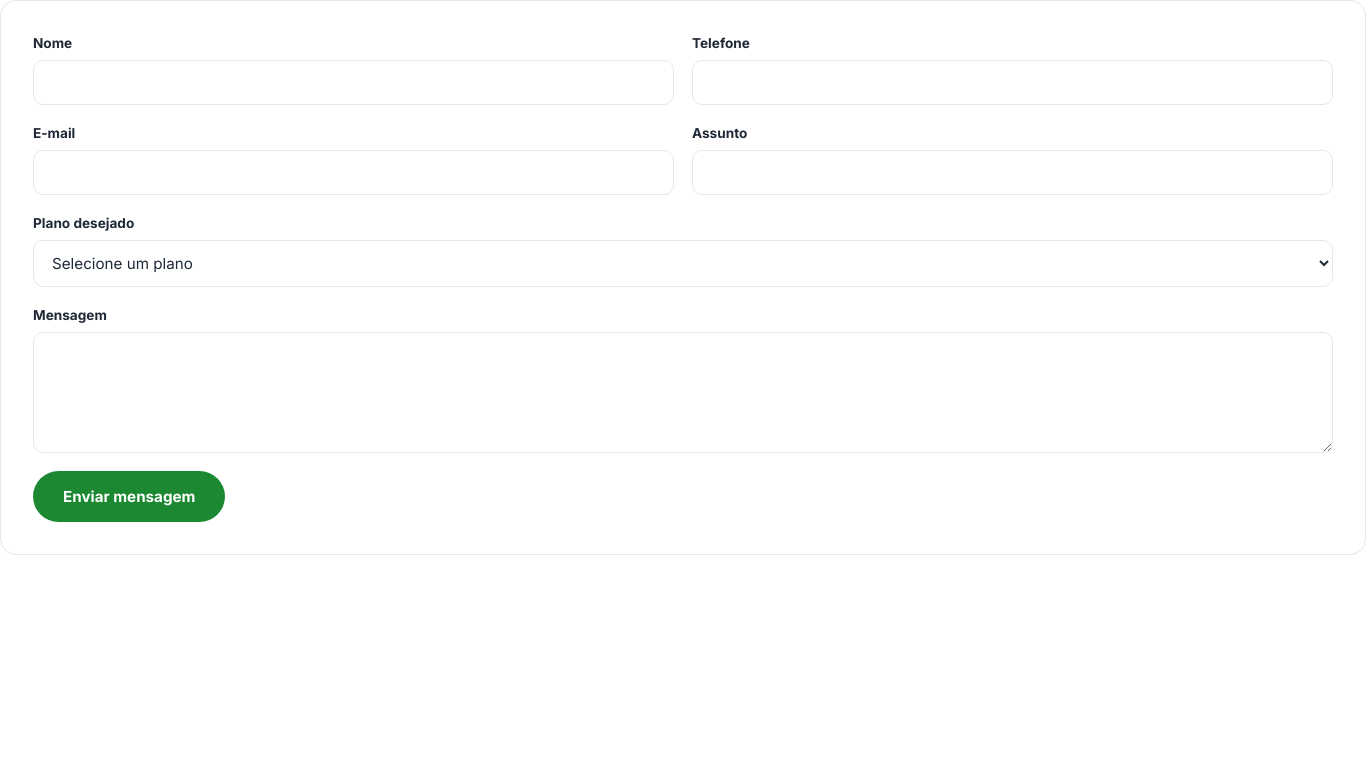
ContactForm › lets the user pick a plan when planOptions is provided
Type "Maria Souza" into the field labelled "Nome" at (354, 83), box x1=33 y1=60 x2=674 y2=105
Type "71999999999" into the field labelled "Telefone" at (1012, 83), box x1=692 y1=60 x2=1333 y2=105
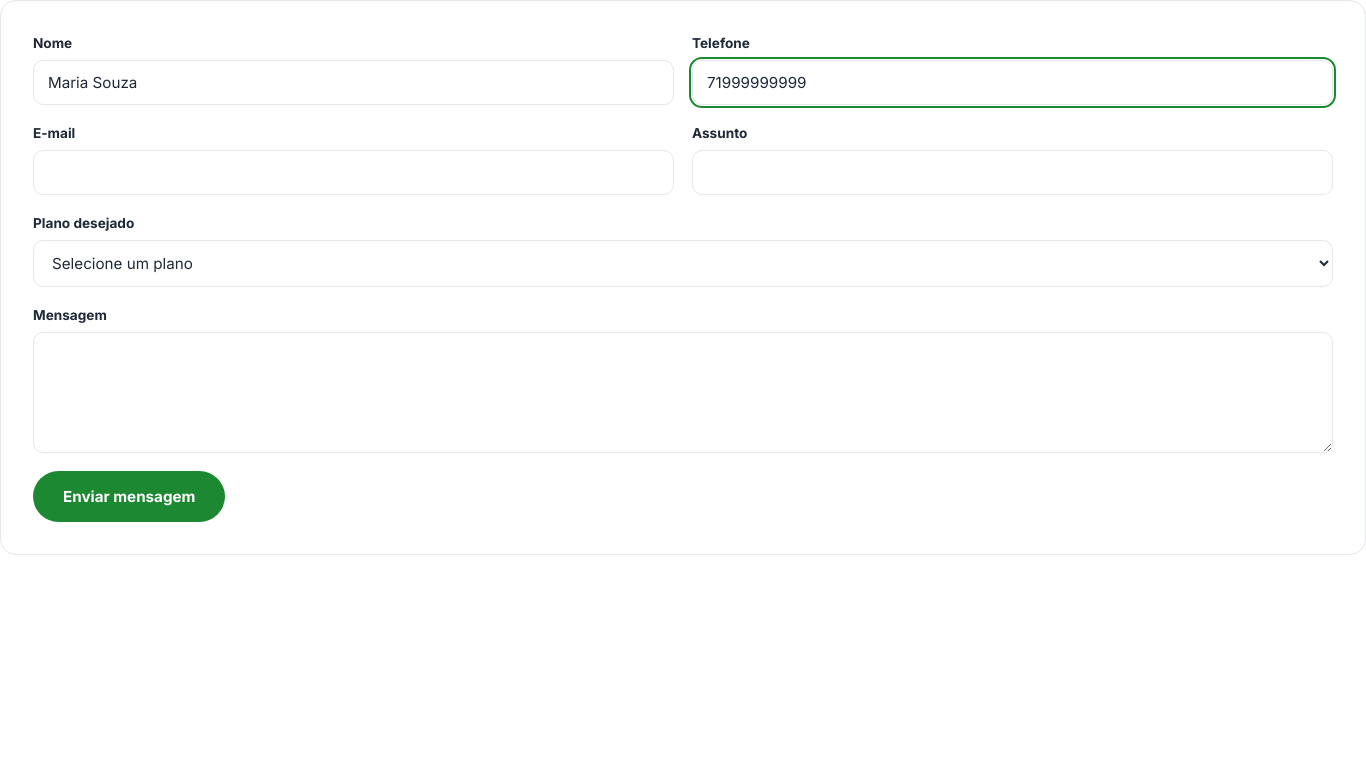
Type "maria@example.com" into the field labelled "E-mail" at (354, 173), box x1=33 y1=150 x2=674 y2=195
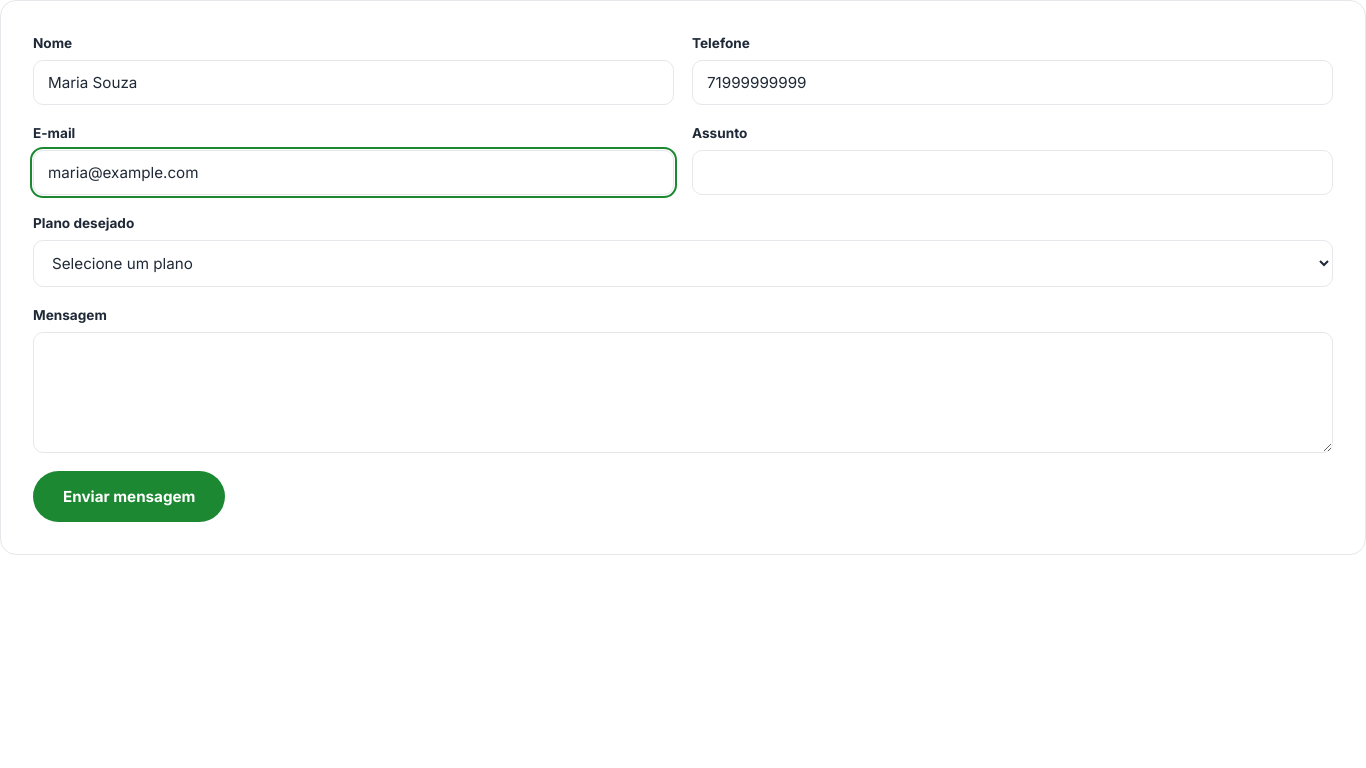
Type "Abertura de empresa" into the field labelled "Assunto" at (1012, 173), box x1=692 y1=150 x2=1333 y2=195
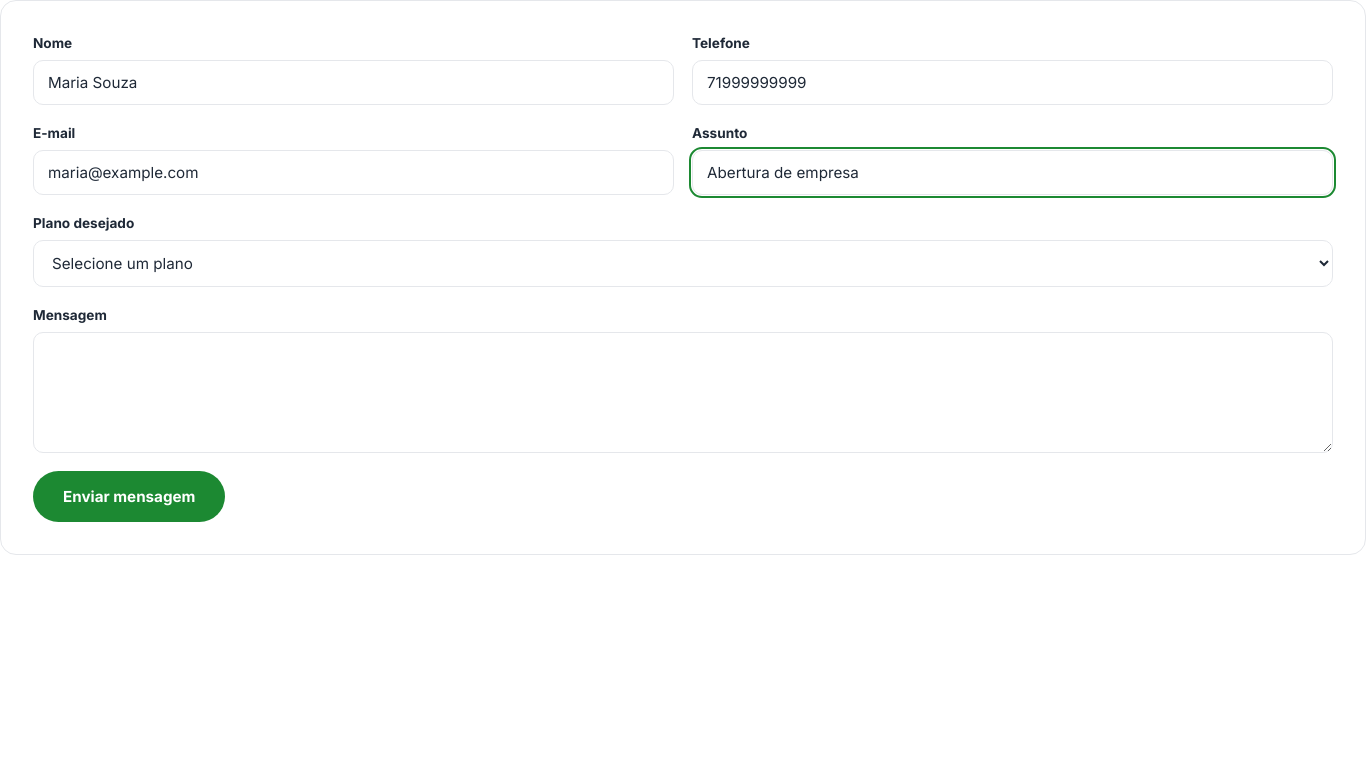
Type "Quero abrir uma empresa." into the text box labelled "Mensagem" at (683, 393), box x1=33 y1=332 x2=1333 y2=453
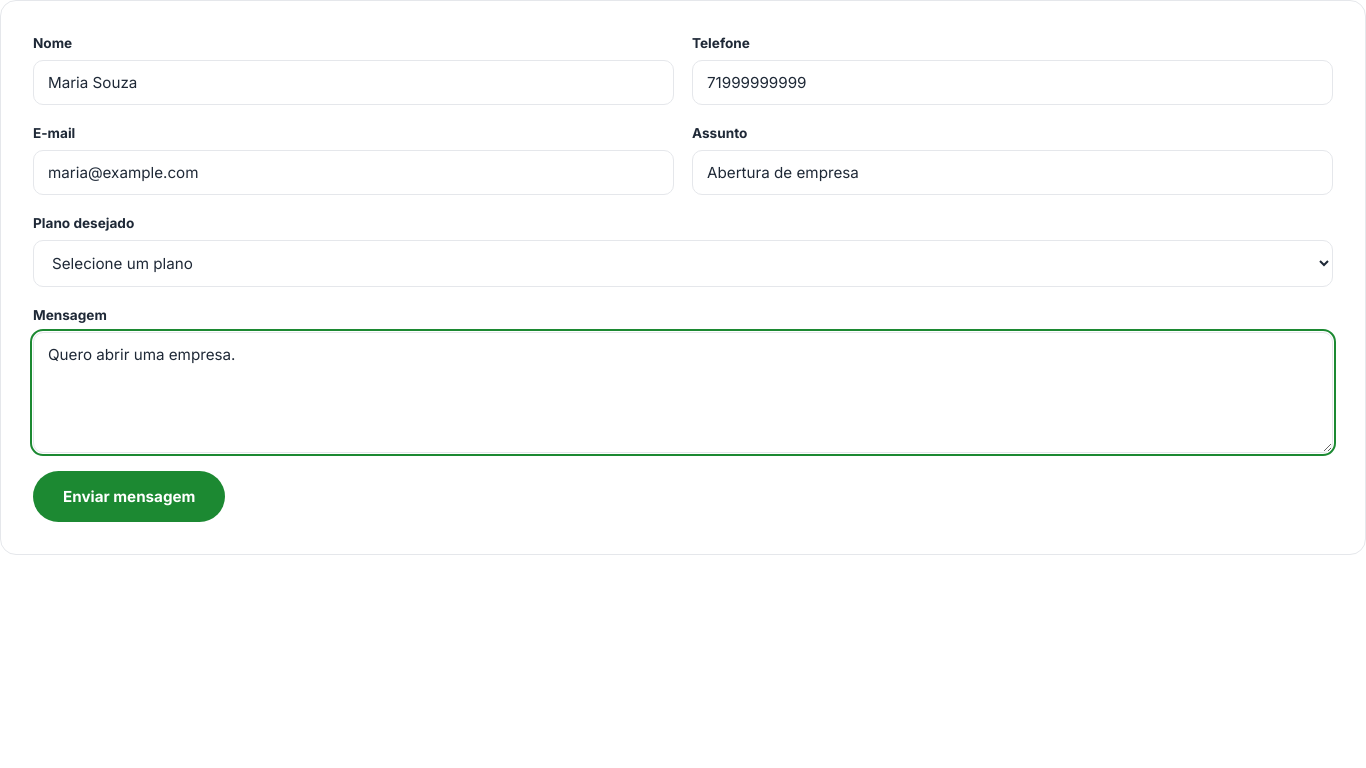
Select "Contabilidade Essencial" in the dropdown labelled "Plano desejado" at (683, 264), box x1=33 y1=240 x2=1333 y2=287
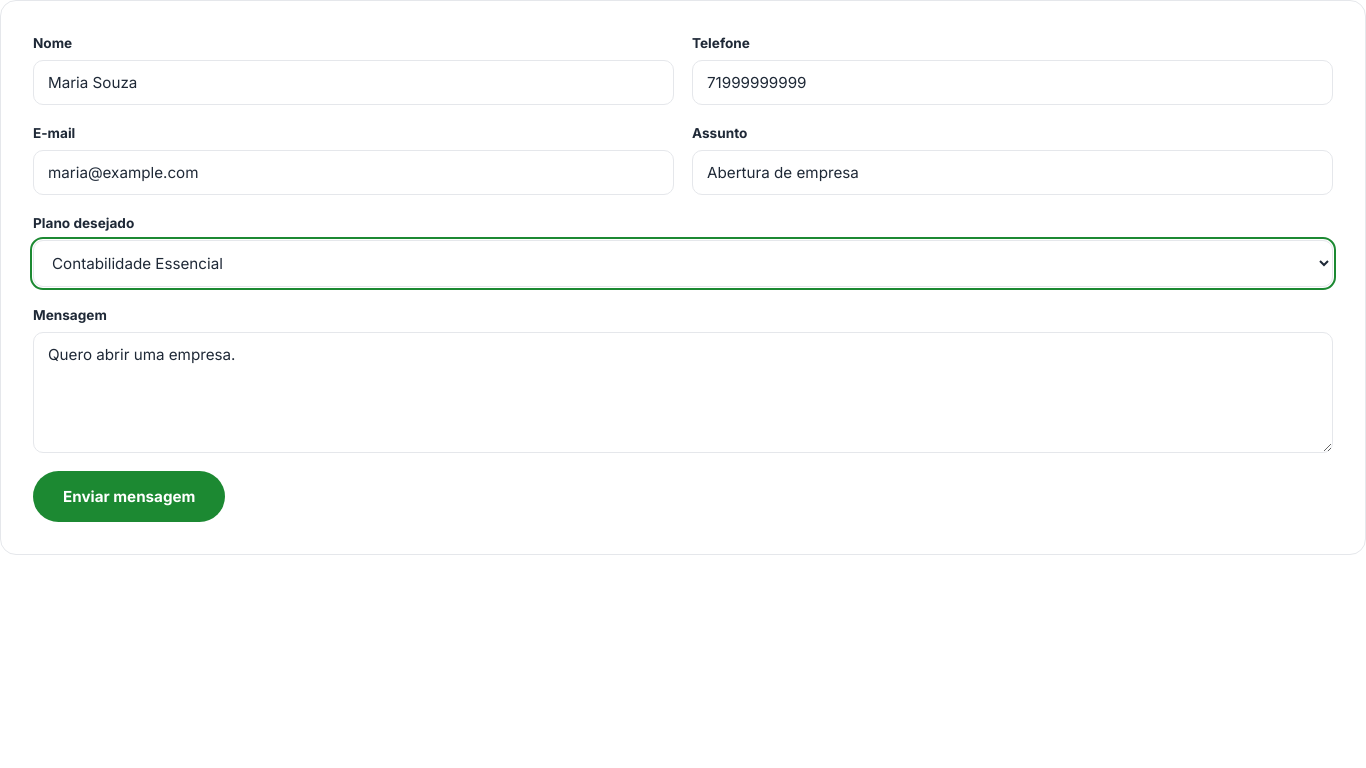
Click the button "Enviar mensagem" at (129, 497), box x1=33 y1=471 x2=225 y2=522
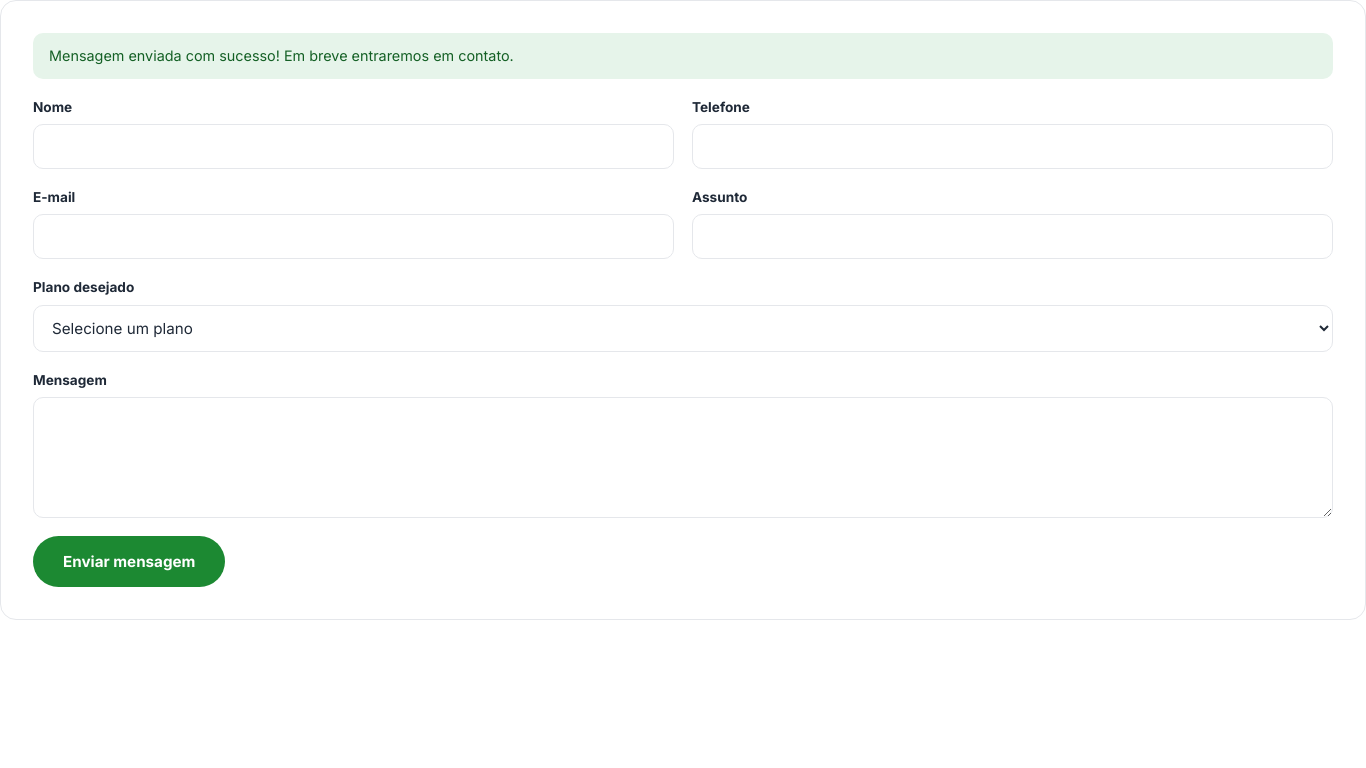
Expected: the text "Mensagem enviada com sucesso" is shown, x1=49 y1=47 x2=514 y2=64
